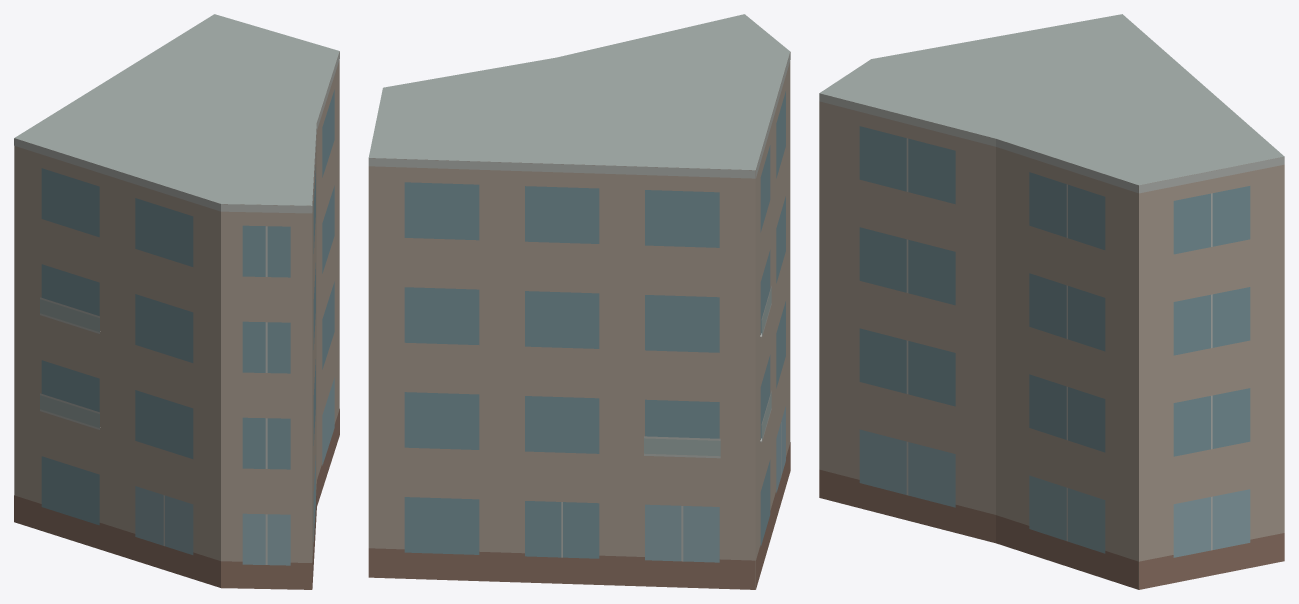
The model's file is survey-upis-33013078.glb.
3 renders of one model, left to right at view 1: azimuth 30°, elevation 25°; view 2: azimuth 150°, elevation 25°; view 3: azimuth 270°, elevation 25°, orthographic. The views are drawn at different scales.
Parts seen in each view (by area): view 1: survey-upis-33013078.tmp; view 2: survey-upis-33013078.tmp; view 3: survey-upis-33013078.tmp.
Part boxes in pixels (x1=…): survey-upis-33013078.tmp: x1=14, y1=14, x2=339, y2=589; survey-upis-33013078.tmp: x1=368, y1=14, x2=790, y2=589; survey-upis-33013078.tmp: x1=819, y1=14, x2=1284, y2=589.
Bounding box in the file's own units: 11.09 × 12.2 × 12.73.
